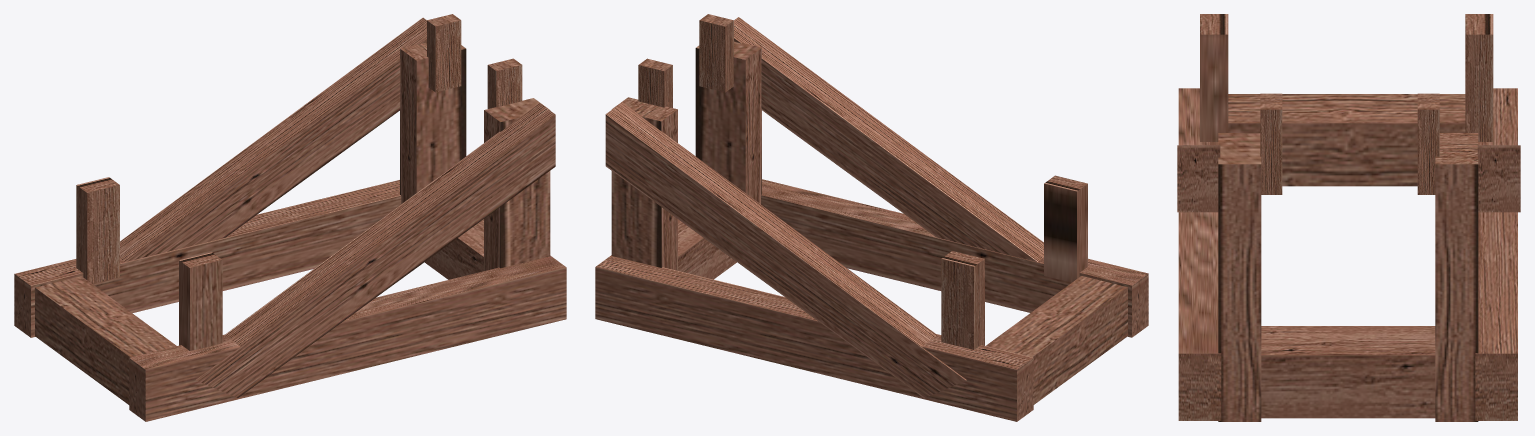
The model's file is CatapultaBase.fbx.
3 views of the same model, side by side, from view 1: azimuth 30°, elevation 25°; view 2: azimuth 150°, elevation 25°; view 3: azimuth 270°, elevation 25° (orthographic). The views are drawn at different scales.
Parts seen in each view (by area): view 1: polySurface12, polySurface15, polySurface13, polySurface14, polySurface1, polySurface9, polySurface10, polySurface8, polySurface16, polySurface7, polySurface2, polySurface17; view 2: polySurface13, polySurface14, polySurface12, polySurface15, polySurface1, polySurface10, polySurface9, polySurface16, polySurface8, polySurface17, polySurface2, polySurface7; view 3: polySurface2, polySurface1, polySurface10, polySurface9, polySurface15, polySurface14, polySurface16, polySurface8, polySurface13, polySurface12, polySurface17, polySurface7.
Part boxes in pixels (bbox=[...]): polySurface12: bbox=[196, 102, 555, 397]; polySurface15: bbox=[129, 255, 566, 421]; polySurface13: bbox=[120, 17, 426, 261]; polySurface14: bbox=[14, 180, 401, 337]; polySurface1: bbox=[35, 276, 176, 404]; polySurface9: bbox=[400, 42, 466, 203]; polySurface10: bbox=[484, 98, 550, 270]; polySurface8: bbox=[76, 177, 119, 283]; polySurface16: bbox=[179, 252, 222, 350]; polySurface7: bbox=[427, 14, 461, 92]; polySurface2: bbox=[424, 219, 483, 279]; polySurface17: bbox=[487, 58, 522, 108]; polySurface13: bbox=[605, 102, 966, 398]; polySurface14: bbox=[595, 255, 1033, 421]; polySurface12: bbox=[734, 17, 1043, 261]; polySurface15: bbox=[761, 179, 1148, 337]; polySurface1: bbox=[986, 276, 1127, 404]; polySurface10: bbox=[695, 41, 761, 204]; polySurface9: bbox=[611, 97, 677, 270]; polySurface16: bbox=[1044, 175, 1087, 282]; polySurface8: bbox=[941, 251, 984, 349]; polySurface17: bbox=[699, 14, 733, 92]; polySurface2: bbox=[678, 219, 736, 279]; polySurface7: bbox=[638, 58, 672, 107]; polySurface2: bbox=[1261, 326, 1435, 418]; polySurface1: bbox=[1228, 94, 1465, 186]; polySurface10: bbox=[1218, 133, 1261, 421]; polySurface9: bbox=[1435, 133, 1478, 421]; polySurface15: bbox=[1178, 88, 1221, 420]; polySurface14: bbox=[1475, 88, 1517, 420]; polySurface16: bbox=[1200, 14, 1228, 141]; polySurface8: bbox=[1465, 14, 1493, 141]; polySurface13: bbox=[1477, 145, 1520, 212]; polySurface12: bbox=[1177, 145, 1220, 212]; polySurface17: bbox=[1260, 93, 1282, 194]; polySurface7: bbox=[1417, 93, 1439, 194].
Bounding box in the file's own units: 401 × 215 × 219.
